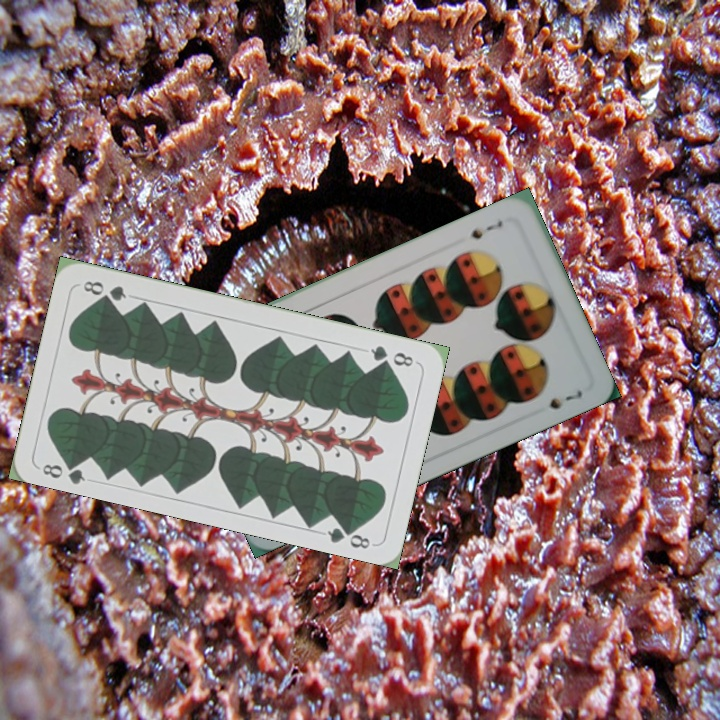G8: (38, 455, 88, 486), (366, 341, 416, 369)
S7: (467, 216, 505, 242)
